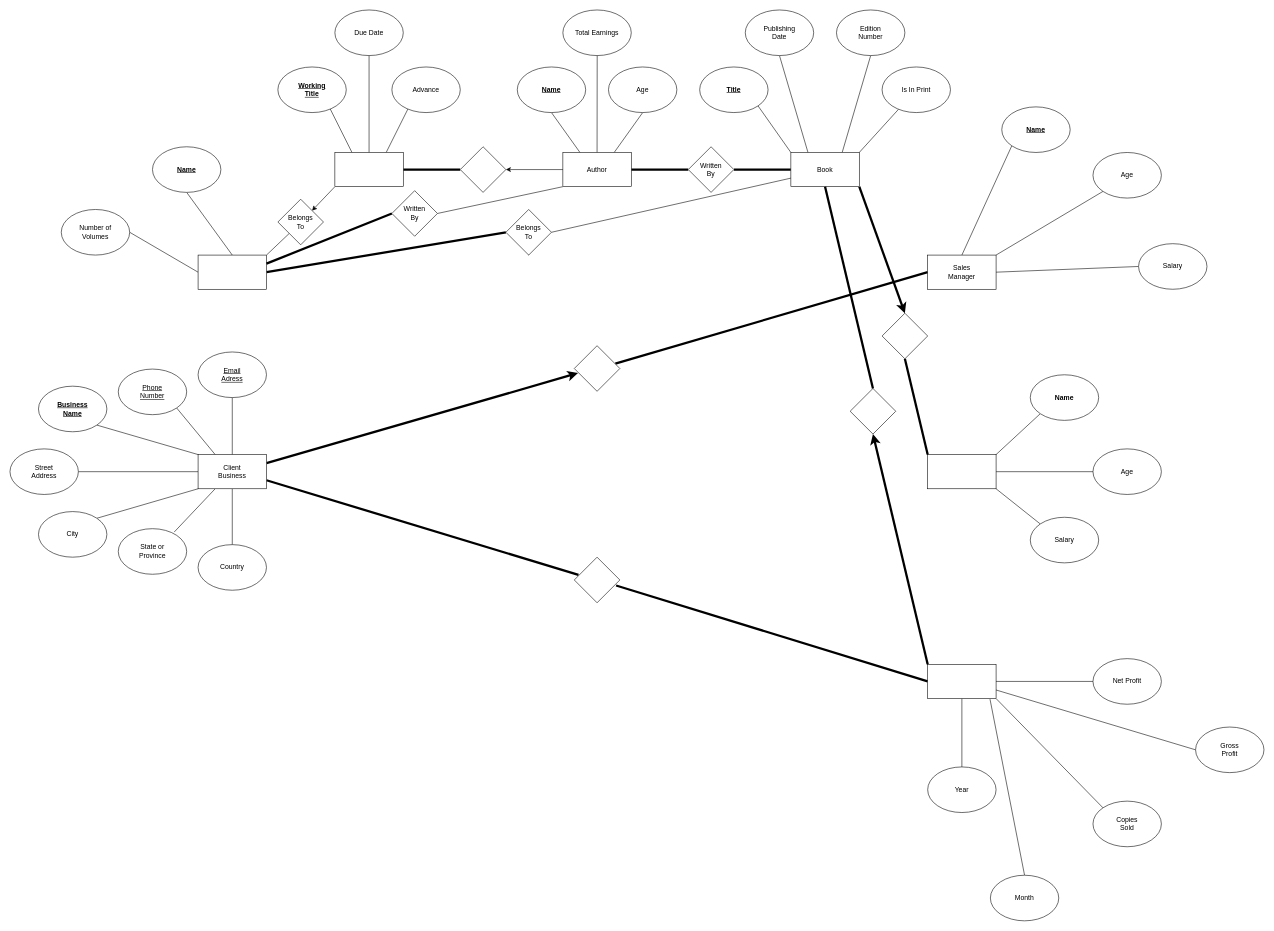
This 1274x931 diagram has some shape labels left out. Each missing label, with the box of its shape:
Editor: (927, 454, 996, 489)
Generates: (574, 557, 620, 603)
Is Currently Writing: (460, 146, 506, 192)
Is Selling By: (850, 388, 896, 434)
Manages Relationship With: (574, 345, 620, 391)
Manuscript: (334, 152, 403, 187)
Monthly Sales Record: (927, 664, 996, 699)
Series: (198, 255, 266, 289)
Was Edited By: (882, 313, 928, 359)
